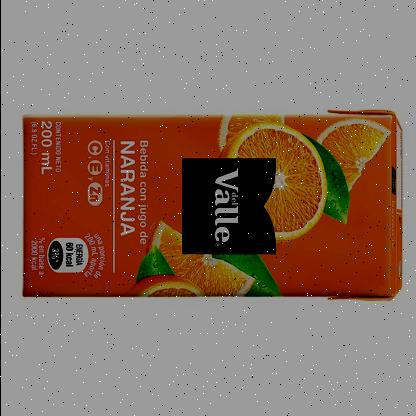Others: (13, 104, 408, 306)
